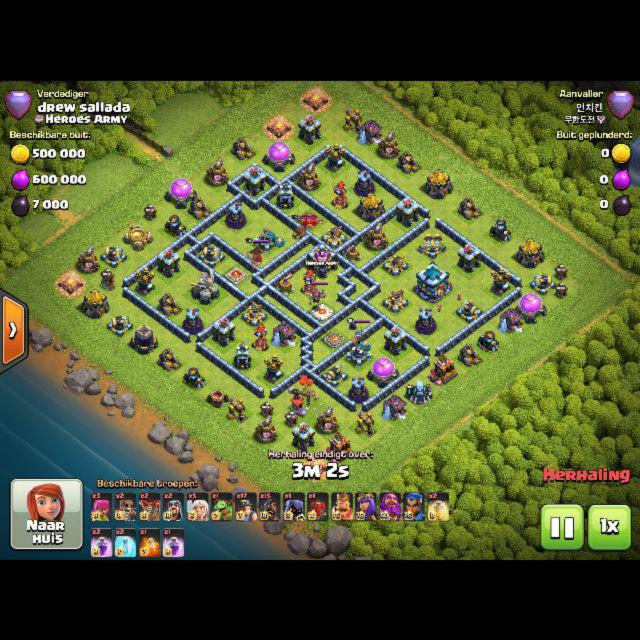AD: (325, 141, 346, 171), (263, 353, 283, 384), (135, 265, 155, 295), (490, 266, 510, 296)
AirSweeper: (276, 272, 295, 296), (342, 244, 362, 265)
BombTower: (234, 340, 251, 368), (277, 182, 294, 209)
Canon: (419, 233, 446, 258), (321, 362, 348, 386), (100, 244, 127, 267), (529, 272, 556, 295), (456, 299, 483, 322), (106, 313, 133, 335), (198, 245, 225, 267)
ClanCastle: (307, 242, 337, 277)
Eagle: (191, 268, 220, 304)
Inferno: (252, 322, 269, 350), (332, 180, 349, 208), (301, 268, 318, 295)
KingPad: (225, 266, 248, 283)
Mortar: (489, 217, 512, 242), (164, 213, 187, 237), (477, 330, 500, 353), (182, 366, 205, 389)
QueenPad: (298, 210, 323, 229)
RcPad: (324, 332, 344, 347)
Scattershot: (254, 227, 285, 252), (347, 340, 372, 367)
TH13: (415, 261, 449, 302)
WardenPad: (312, 303, 333, 319)
WizzTower: (182, 307, 202, 334), (354, 169, 374, 196), (416, 307, 435, 334), (349, 376, 368, 403), (226, 201, 245, 228)
Xbow: (382, 288, 409, 313), (241, 301, 268, 326), (321, 225, 347, 248), (382, 253, 409, 275)
